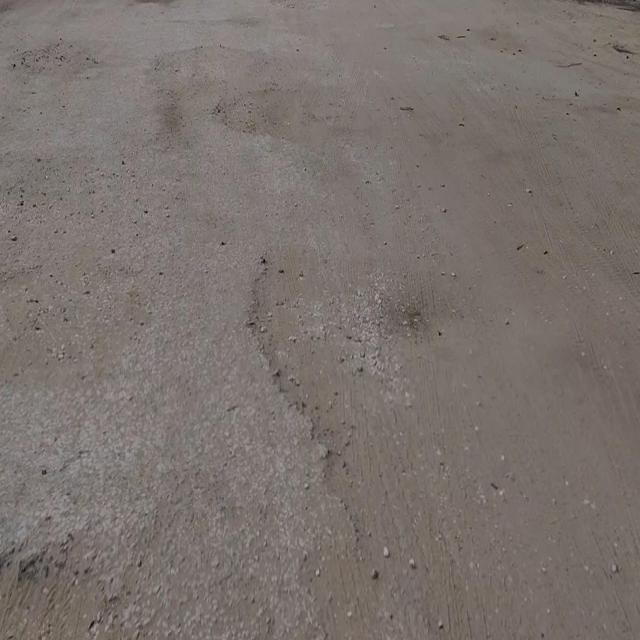Potholes: (0, 542, 120, 640)
